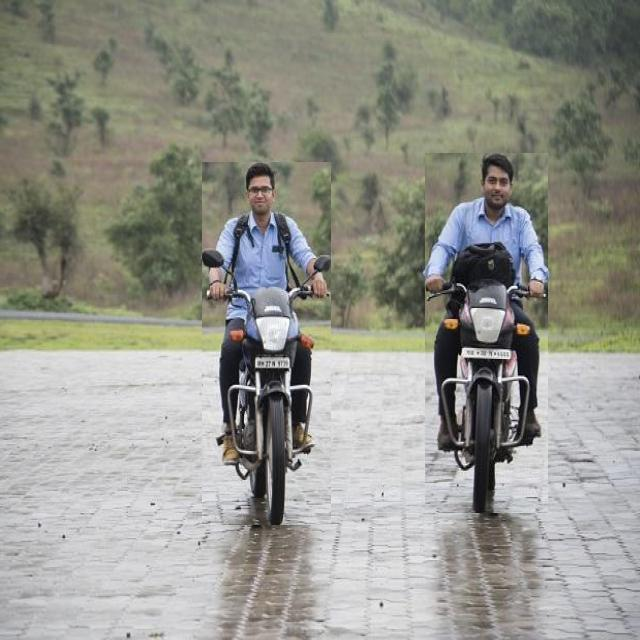motorcycle: (202, 162, 330, 525), (425, 153, 548, 513)
